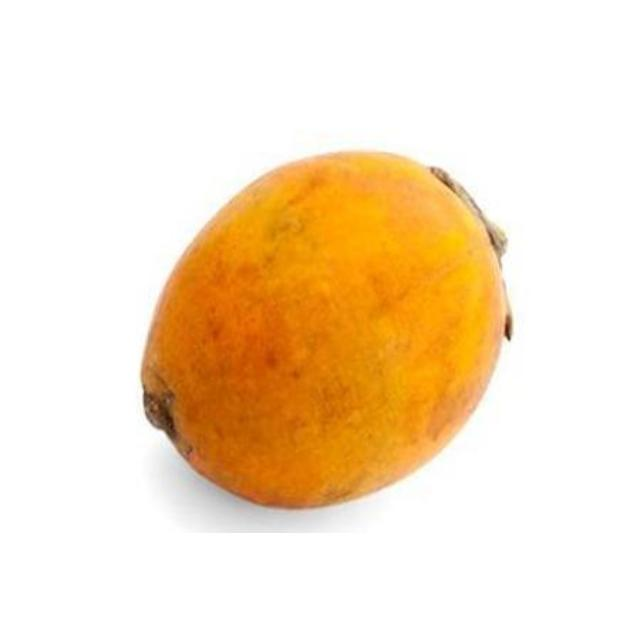good: (139, 151, 512, 512)
